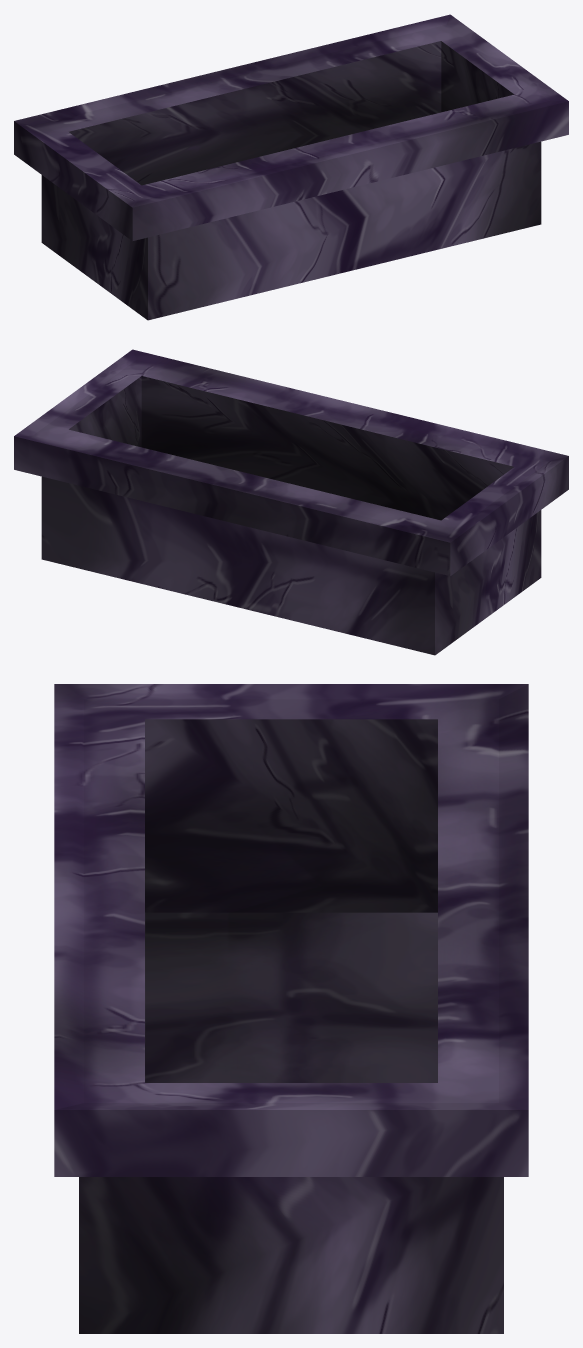
File: bath.obj
3 renders of one model, top to bottom at view 1: azimuth 30°, elevation 25°; view 2: azimuth 150°, elevation 25°; view 3: azimuth 270°, elevation 25°, orthographic. The views are drawn at different scales.
Parts seen in each view (by area): view 1: Bañera_Cube.001; view 2: Bañera_Cube.001; view 3: Bañera_Cube.001.
Boxes of the visible parts, box(x1,y1,x2,y2) form: Bañera_Cube.001: box(14, 14, 568, 320); Bañera_Cube.001: box(14, 349, 568, 655); Bañera_Cube.001: box(54, 684, 528, 1333).
Bounding box in the file's own units: 4.86 × 1.3 × 2.28.
